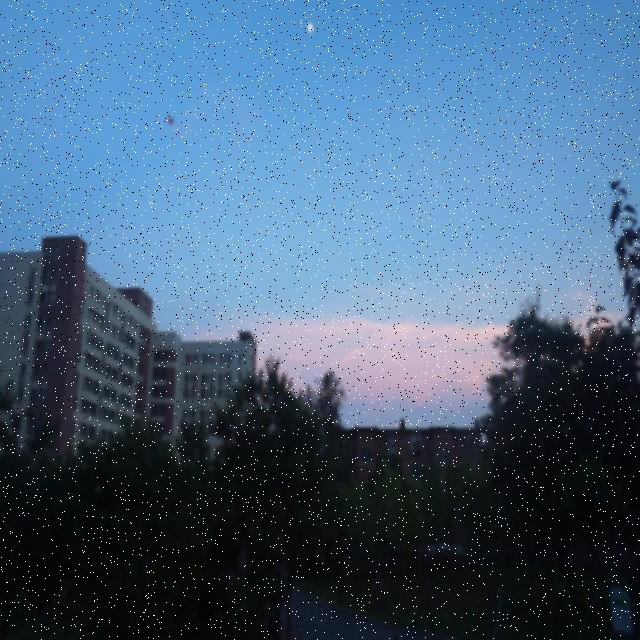UAV: (167, 113, 175, 125)
